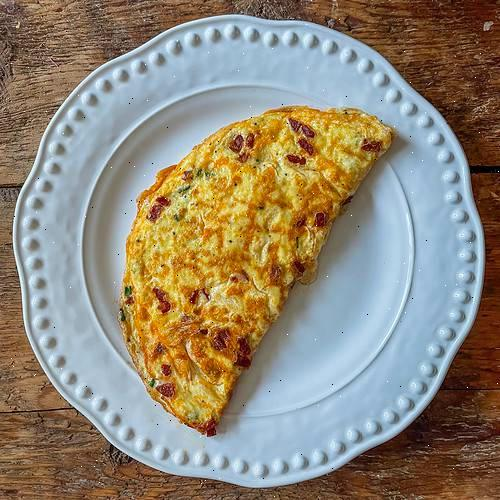omelette: (133, 94, 372, 436)
